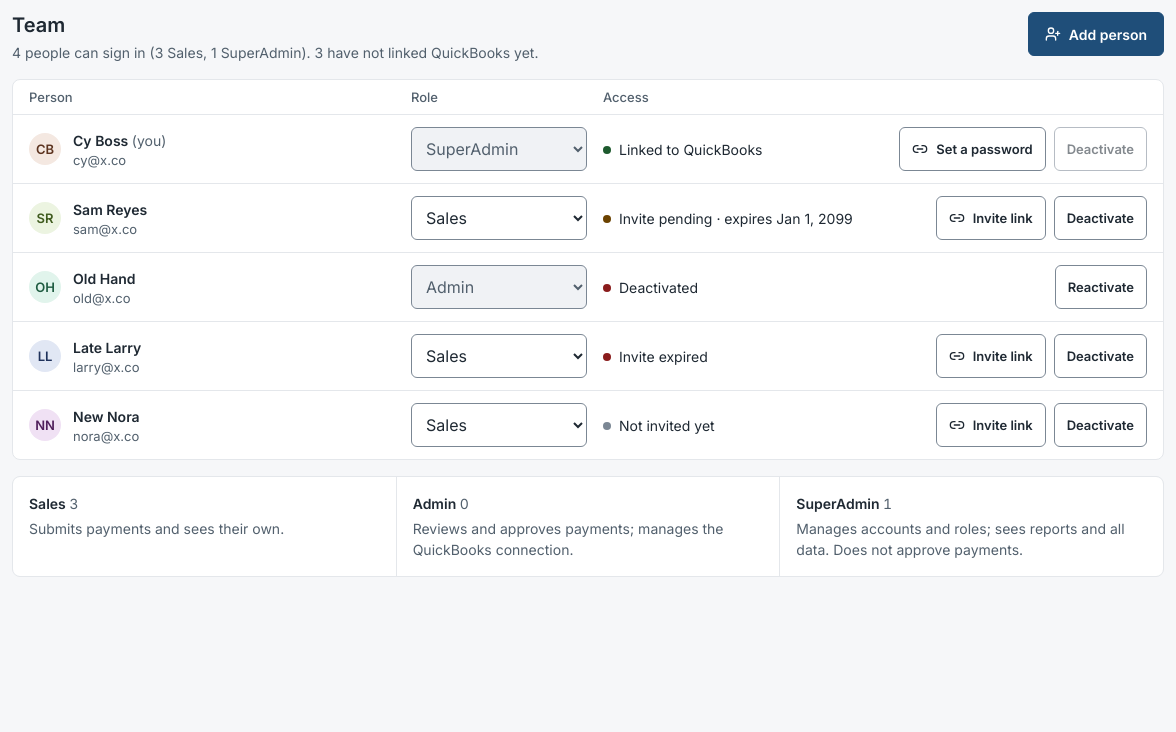
Scenario: TeamPage › shows the server error when the last SuperAdmin cannot be removed
Select "SuperAdmin" in the dropdown named "Role for Sam Reyes". click: (499, 218)
box: [411,196,587,240]
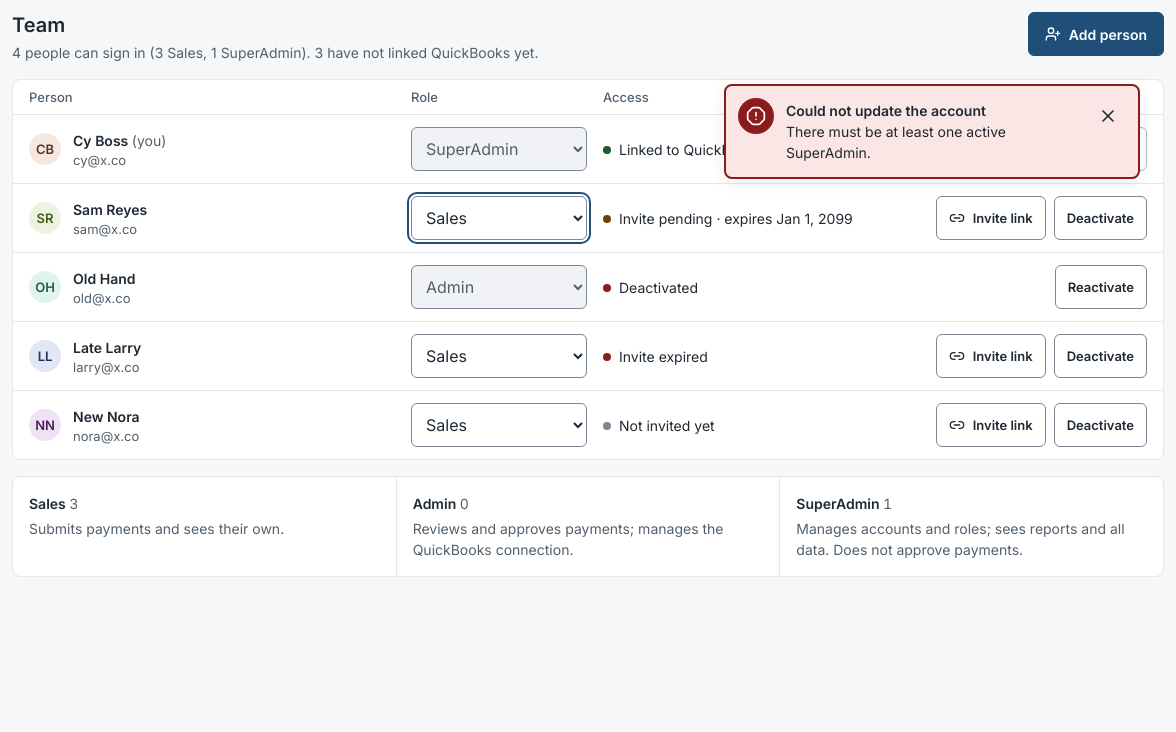
expect the text "There must be at least one active SuperAdmin." is shown: met, box [786,123,1006,161]
